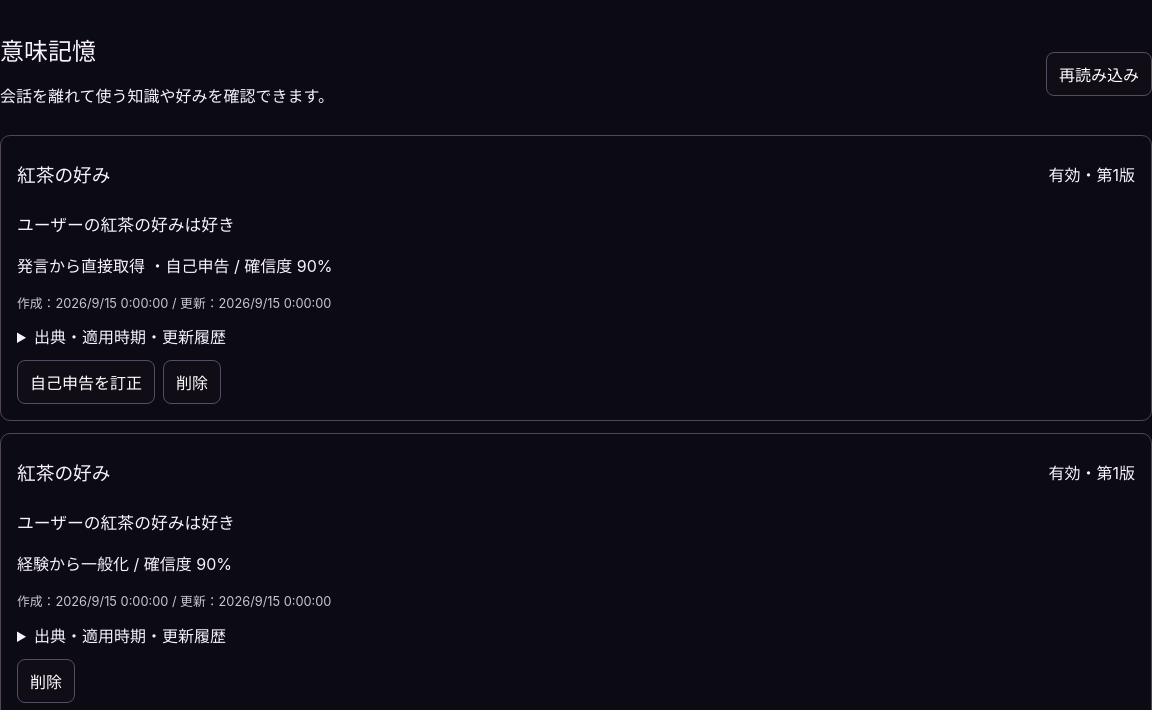
訂正する値と版だけを送り、自己申告や所有者は変更しない
Click the button "自己申告を訂正" at (86, 382), box [17,360,155,404]
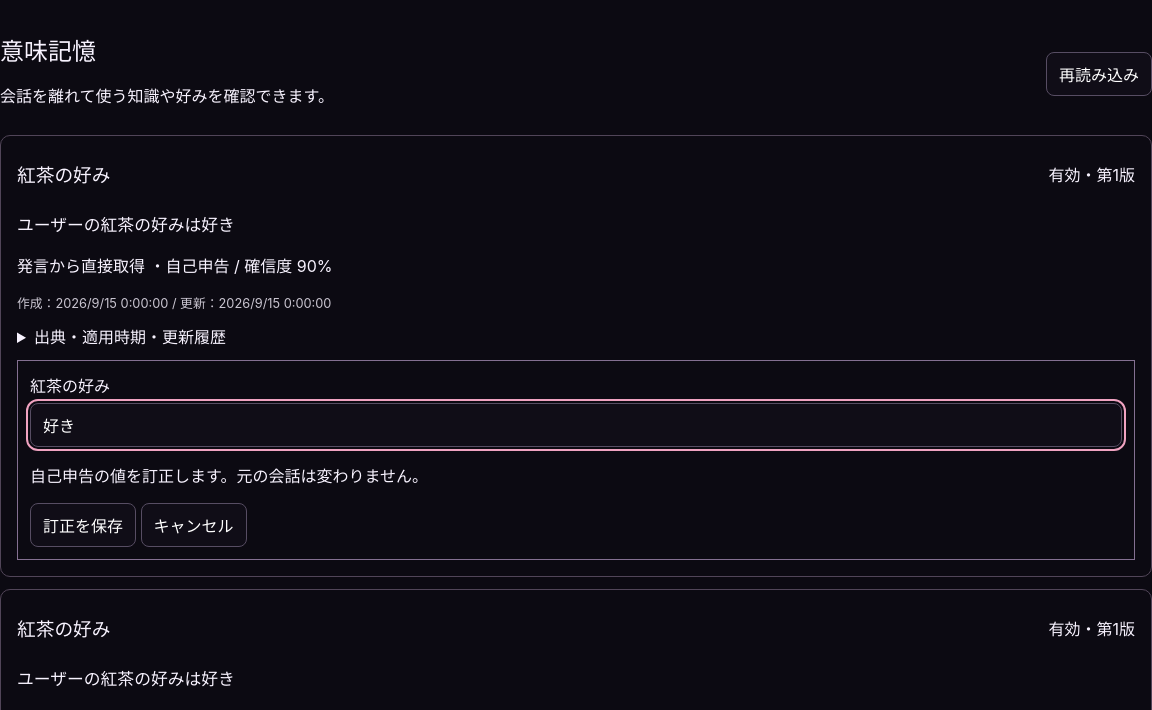
Replace the text in the field with "苦手" at (576, 425), box [30,403,1122,447]
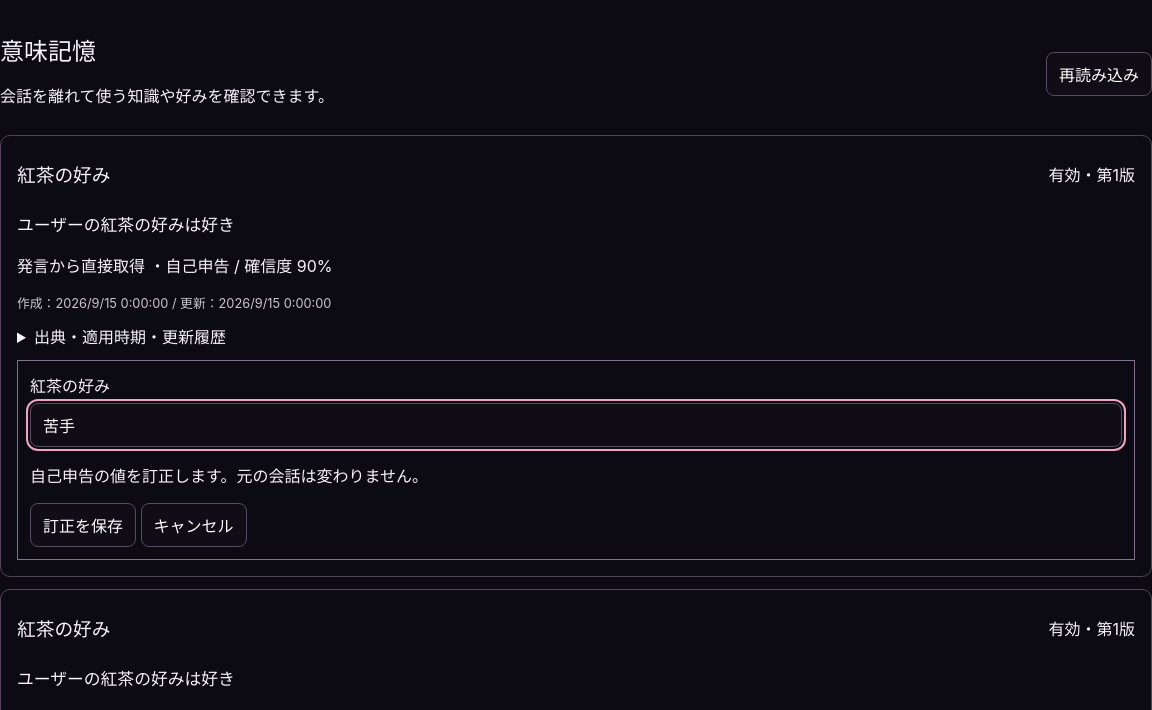
Submit the form named "意味記憶の訂正", box [17,360,1135,560]
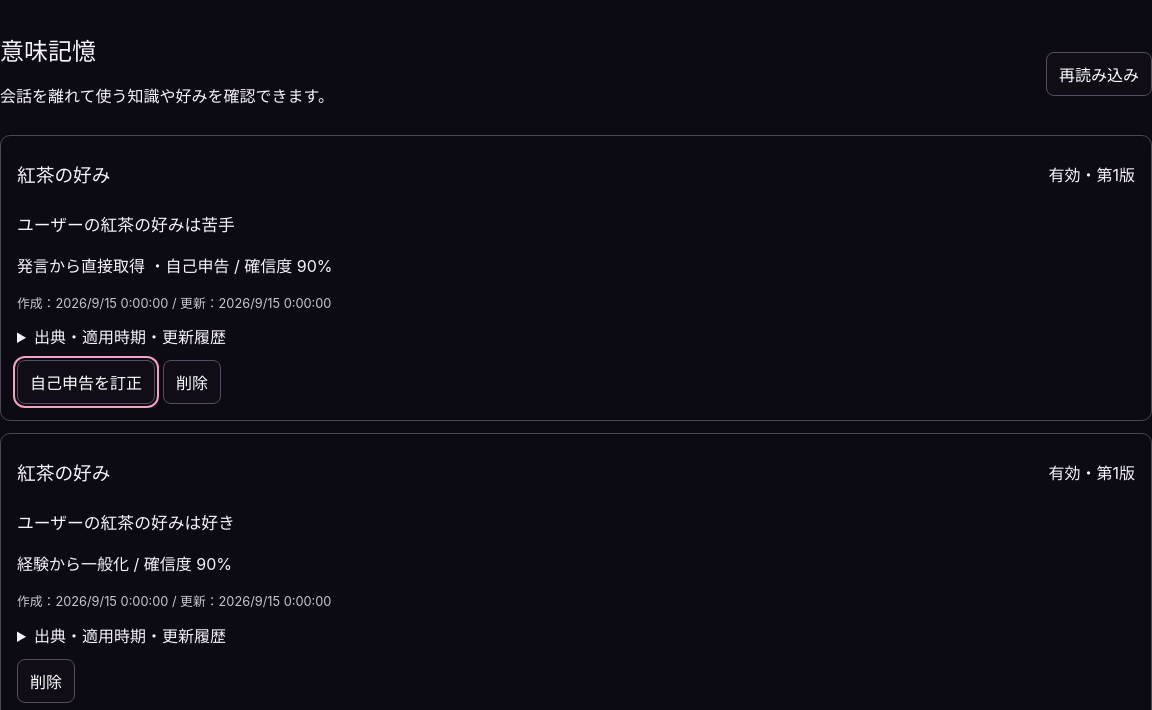
Check: the form is gone
Check: the text "ユーザーの紅茶の好みは苦手" is shown, box [17,215,235,235]
